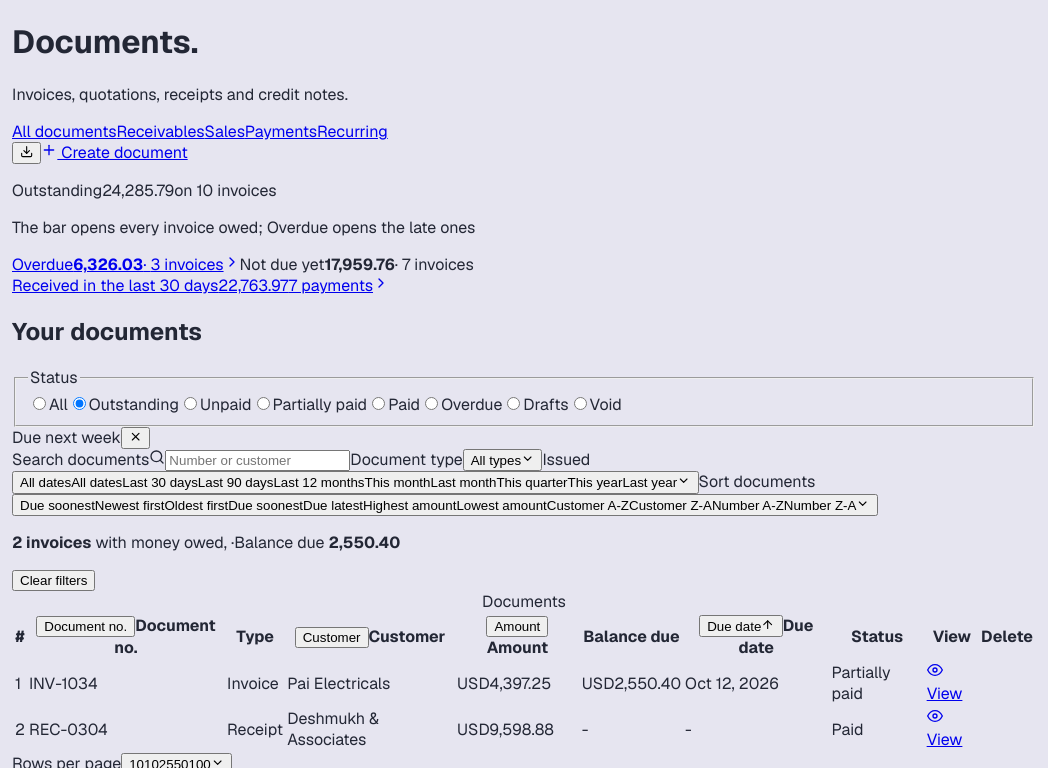
Scenario: shows a removable due-week filter
Expected: the table is shown, [12,591,1036,753]
Expected: the element showing "Due next week" is shown, [12,427,150,448]
Click the button named "Remove Due next week" at (136, 438), box [121,427,150,449]
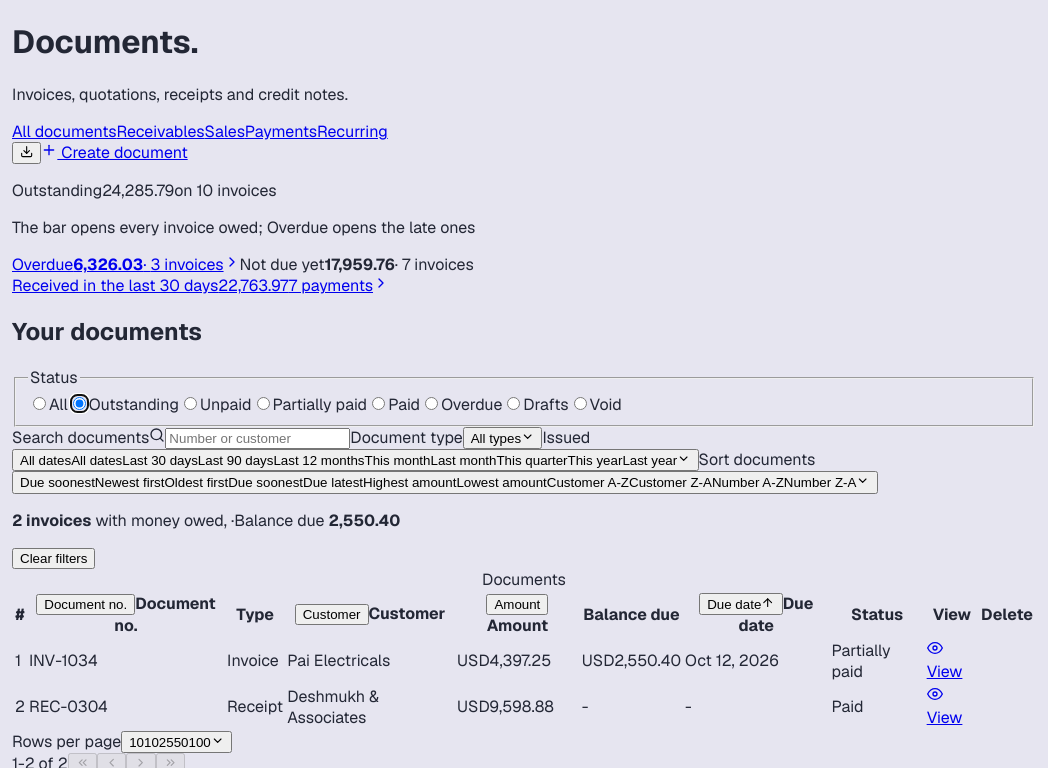
Result: the text "Due next week" is gone
